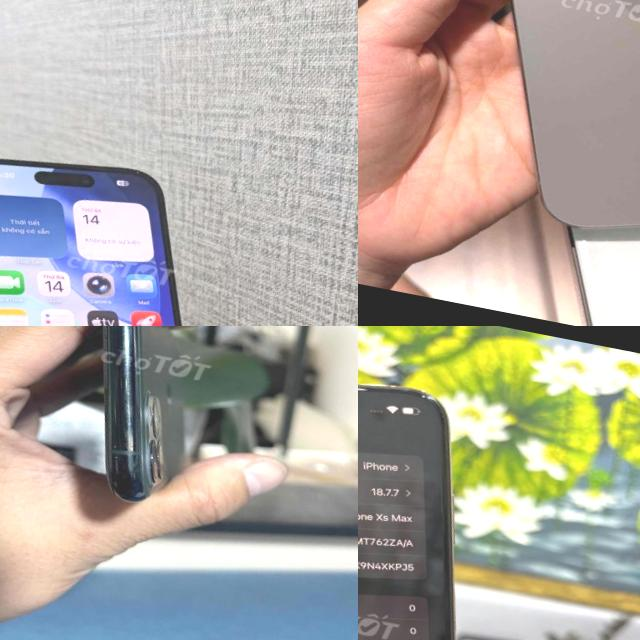scratch: (102, 440, 168, 506)
